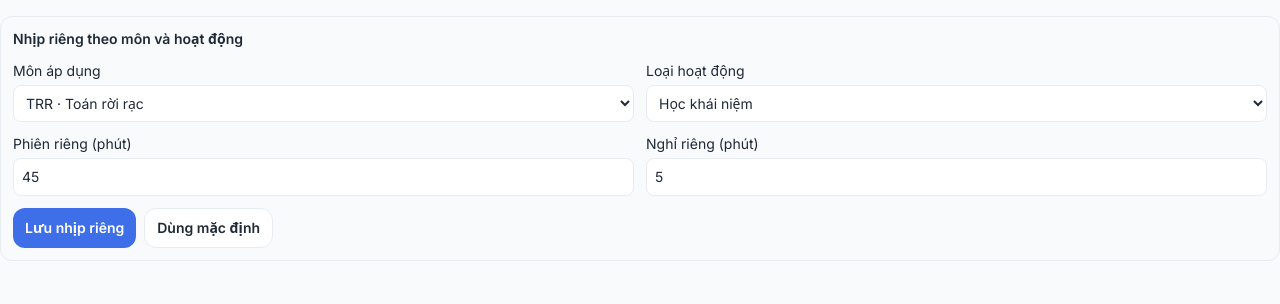
Test: course/activity rhythm student choice › uses saved scoped preference and does not apply a change before explicit save
The image size is (1280, 304).
Replace the text in the number field labelled "Phiên riêng (phút)" with "30" at (324, 177), box [13,158,634,196]
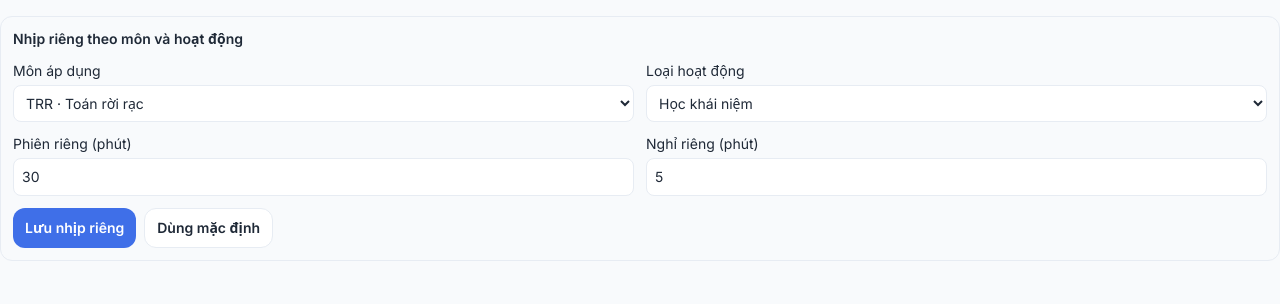
Click the button "Lưu nhịp riêng" at (75, 228), box [13,208,136,248]
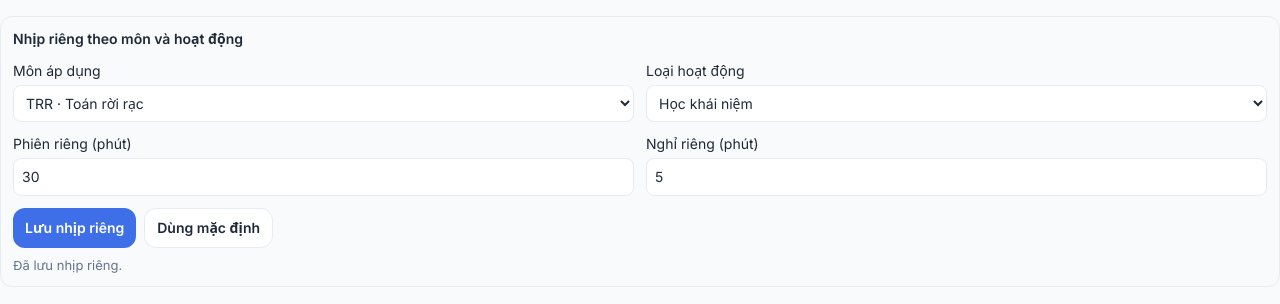
Check: the message shows "Đã lưu nhịp riêng", box [13,257,122,273]
